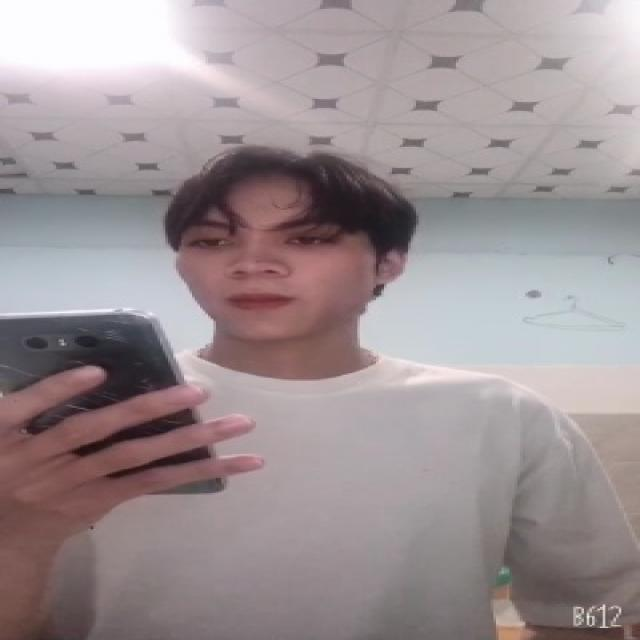Phone: (0, 308, 232, 501)
